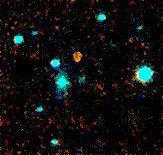star: (64, 40, 94, 70)
